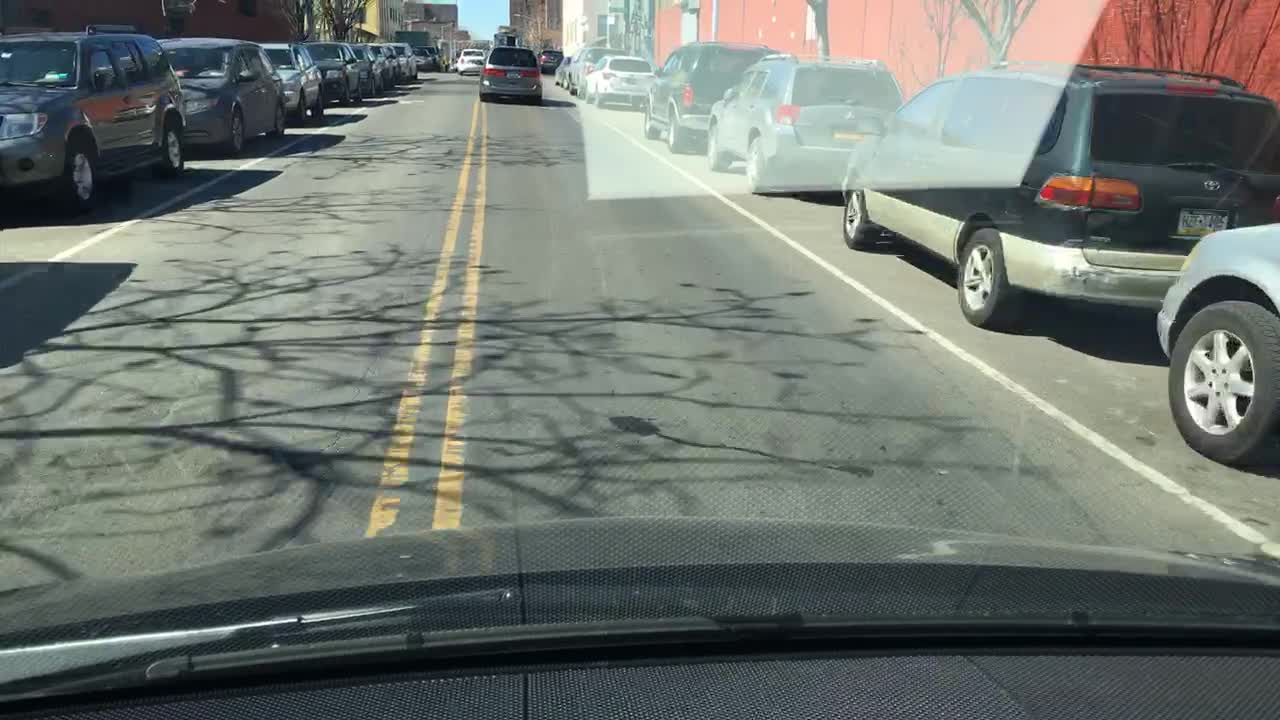car: (839, 56, 1274, 327), (2, 20, 186, 207), (1155, 219, 1277, 462), (708, 51, 902, 195), (158, 35, 286, 150), (644, 43, 764, 152), (264, 43, 325, 118), (584, 54, 650, 106), (480, 43, 540, 100), (308, 43, 363, 102), (567, 47, 622, 94), (352, 47, 383, 94), (376, 44, 401, 89), (393, 41, 420, 82), (456, 49, 484, 74), (538, 50, 563, 69), (552, 57, 570, 83), (412, 49, 432, 70)
truck: (392, 28, 433, 47), (490, 33, 526, 49)
